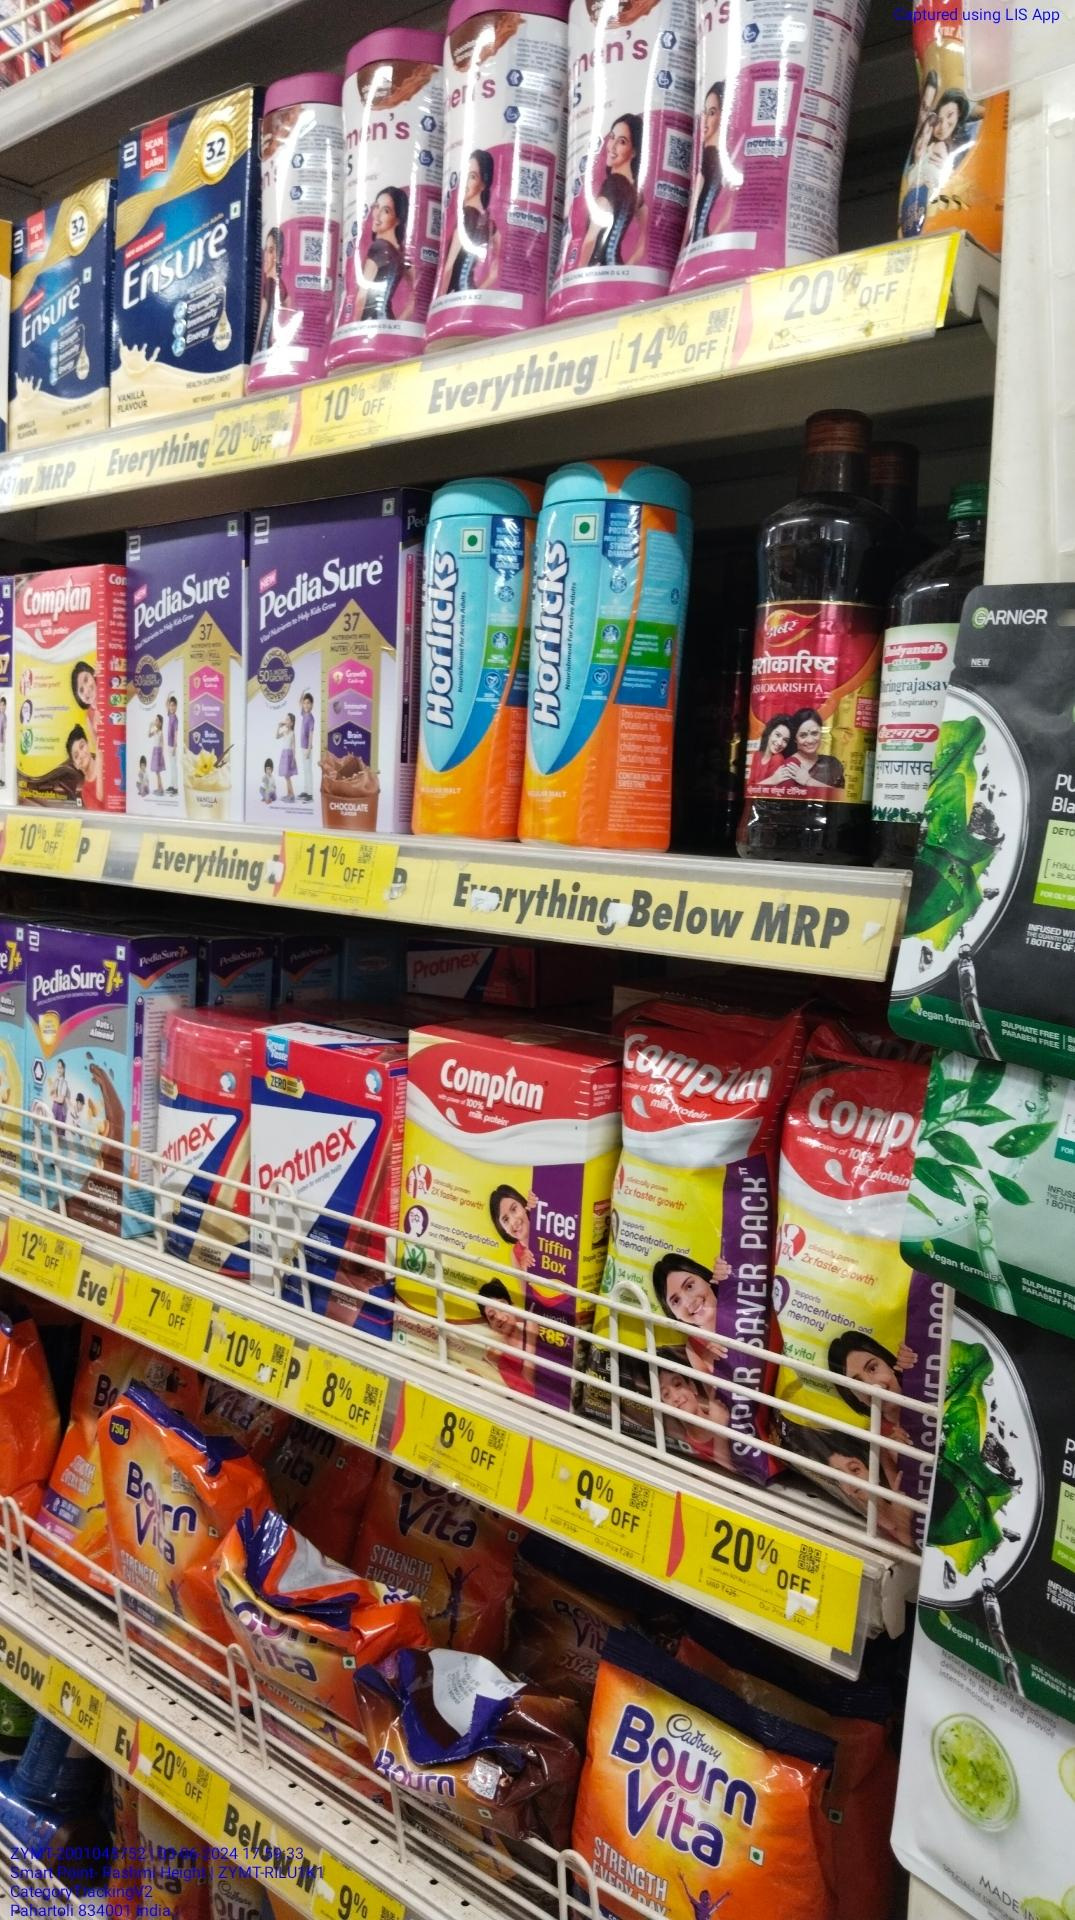ENSURE_VANILLA_400_G_PACK: (115, 99, 247, 415), (11, 181, 108, 436)
HORLICKS_LITE_REGULAR_MALT_500_GM_JAR: (530, 458, 673, 852), (409, 469, 517, 844)
PEDIASURE_CHOCOLATE_500_G_PACK: (248, 496, 398, 829)
PEDIASURE_VANILLA_500_G_PACK: (125, 505, 241, 823)
PROTINEX_VANILLA_400_G_JAR: (154, 1013, 245, 1276)
